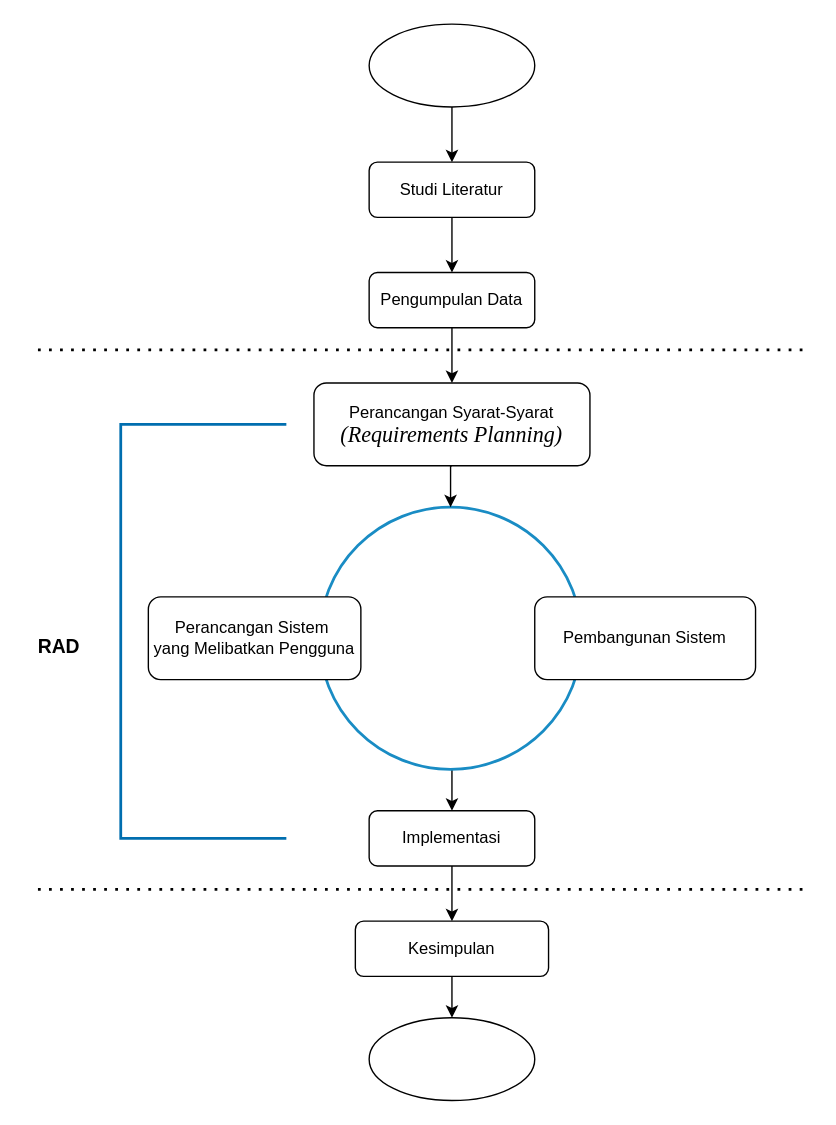
The diagram is 836 pixels wide and 1125 high, and some of its shapes have lost their labels. The centre of each missing label's shape, as x and y in pixels:
Mulai: point 451,65
Selesai: point 451,1058
Workship Design RAD: point 449,637
